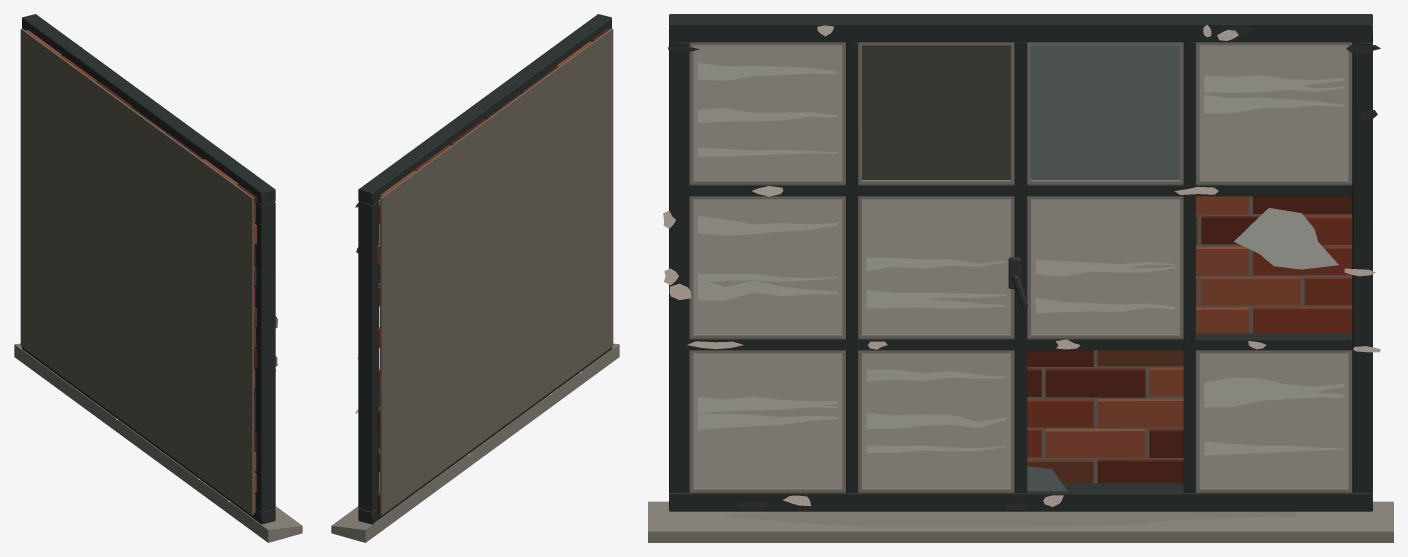
The model's file is window_brick@1.glb.
The picture shows the model from 3 angles, left to right: view 1: azimuth 30°, elevation 25°; view 2: azimuth 150°, elevation 25°; view 3: azimuth 270°, elevation 25°; orthographic projection. The views are drawn at different scales.
Visible parts, largest first — view 1: teil, teil.007, teil.015, teil.002, teil.001; view 2: teil, teil.007, teil.015, teil.002; view 3: teil.009, teil.007, teil.010, teil.008, teil.013, teil.012, teil.015, teil.001, teil.002, teil.004, teil.016, teil (+4 smaller).
Boxes of the visible parts, left/top/right/bottom form: teil: left=20, top=28, right=253, bottom=515; teil.007: left=22, top=14, right=275, bottom=524; teil.015: left=14, top=343, right=302, bottom=542; teil.002: left=96, top=81, right=256, bottom=451; teil.001: left=25, top=30, right=256, bottom=512; teil: left=380, top=28, right=613, bottom=515; teil.007: left=358, top=14, right=611, bottom=524; teil.015: left=331, top=343, right=619, bottom=542; teil.002: left=377, top=28, right=610, bottom=513; teil.009: left=693, top=45, right=1348, bottom=487; teil.007: left=669, top=14, right=1372, bottom=511; teil.010: left=698, top=63, right=1343, bottom=455; teil.008: left=689, top=42, right=1352, bottom=492; teil.013: left=1027, top=45, right=1179, bottom=491; teil.012: left=862, top=45, right=1010, bottom=179; teil.015: left=648, top=501, right=1393, bottom=542; teil.001: left=1045, top=196, right=1300, bottom=457; teil.002: left=1027, top=196, right=1352, bottom=483; teil.004: left=1027, top=216, right=1352, bottom=457; teil.016: left=721, top=511, right=1296, bottom=527; teil: left=1027, top=196, right=1352, bottom=483.
Bounding box in the file's own units: 0.16 × 1.35 × 1.8.
